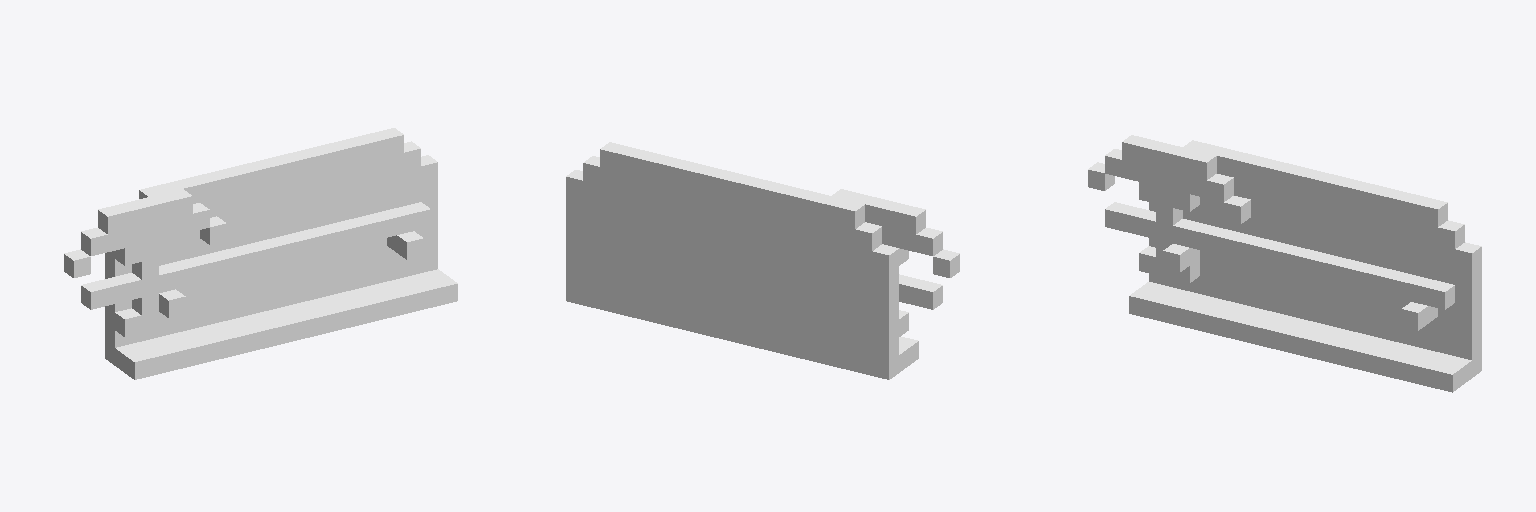
Rendered from sword_rack_2.obj.
3 renders of one model, left to right at view 1: azimuth 30°, elevation 25°; view 2: azimuth 150°, elevation 25°; view 3: azimuth 330°, elevation 25°, orthographic.
Visible parts, largest first — view 1: object 1; view 2: object 1; view 3: object 1.
Part boxes in pixels (left/top/right/bottom): object 1: left=64, top=128, right=457, bottom=379; object 1: left=566, top=142, right=959, bottom=379; object 1: left=1088, top=135, right=1481, bottom=392.
Bounding box in the file's own units: 2.2 × 0.9 × 0.3.